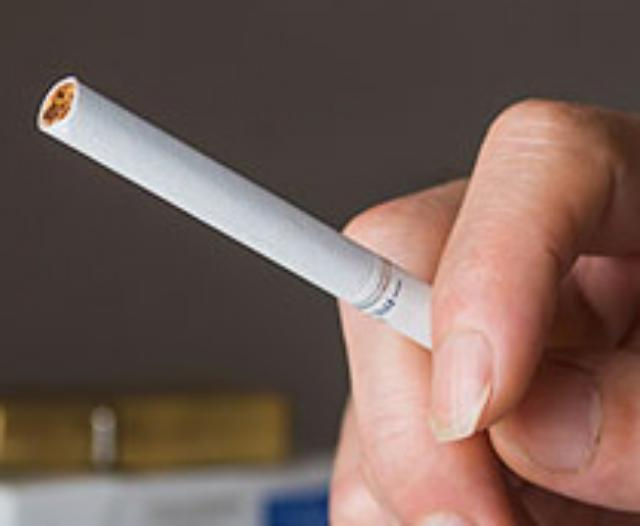Smoking: (34, 74, 510, 370)
